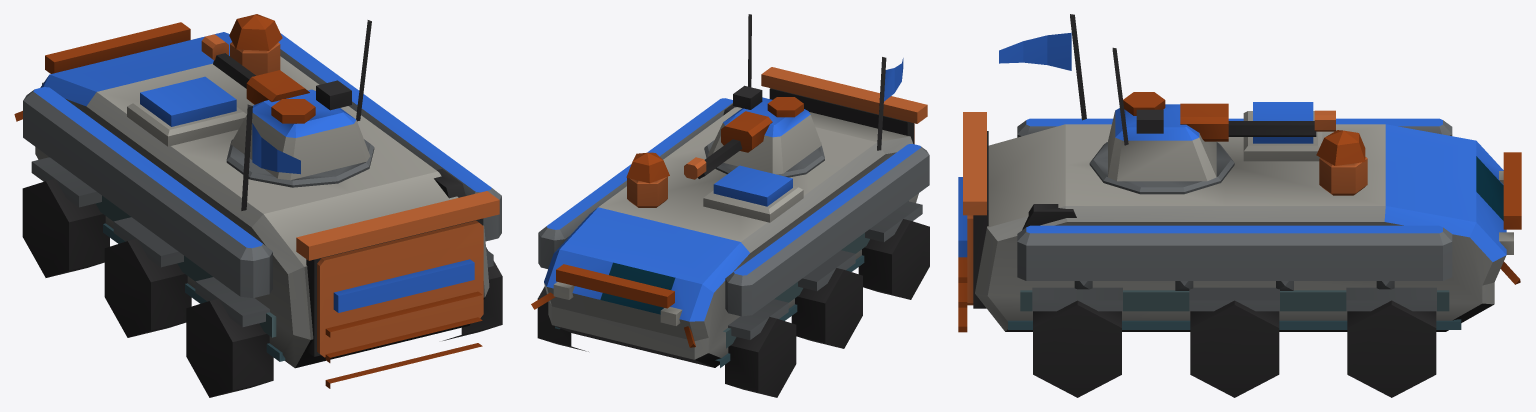
The picture shows the model from 3 angles, left to right: view 1: azimuth 30°, elevation 25°; view 2: azimuth 150°, elevation 25°; view 3: azimuth 270°, elevation 25°; orthographic projection. The views are drawn at different scales.
Visible parts, largest first — view 1: body, deployRamp, turret, spinAxleR, spinAxleF, spinAxleM, barrel, swayFlag; view 2: body, turret, spinAxleF, spinAxleR, spinAxleM, barrel, swayFlag; view 3: body, turret, spinAxleF, spinAxleM, spinAxleR, barrel, swayFlag, deployRamp.
Part boxes in pixels (bbox=[...]): body: bbox=[14, 14, 501, 368]; deployRamp: bbox=[317, 220, 483, 388]; turret: bbox=[230, 20, 371, 180]; spinAxleR: bbox=[186, 247, 502, 397]; spinAxleF: bbox=[22, 179, 109, 277]; spinAxleM: bbox=[104, 239, 191, 337]; barrel: bbox=[201, 34, 309, 104]; swayFlag: bbox=[252, 123, 300, 174]; body: bbox=[531, 57, 929, 367]; turret: bbox=[707, 14, 821, 174]; spinAxleF: bbox=[537, 286, 796, 397]; spinAxleR: bbox=[858, 219, 929, 299]; spinAxleM: bbox=[791, 268, 862, 348]; barrel: bbox=[684, 111, 772, 179]; swayFlag: bbox=[884, 58, 903, 101]; body: bbox=[963, 14, 1521, 331]; turret: bbox=[1108, 47, 1216, 181]; spinAxleF: bbox=[1347, 300, 1436, 397]; spinAxleM: bbox=[1190, 300, 1279, 397]; spinAxleR: bbox=[1033, 300, 1121, 397]; barrel: bbox=[1180, 103, 1335, 141]; swayFlag: bbox=[999, 32, 1071, 70]; deployRamp: bbox=[958, 177, 973, 332].
Size of the model in its own units: 0.99 by 1.12 by 1.86.
